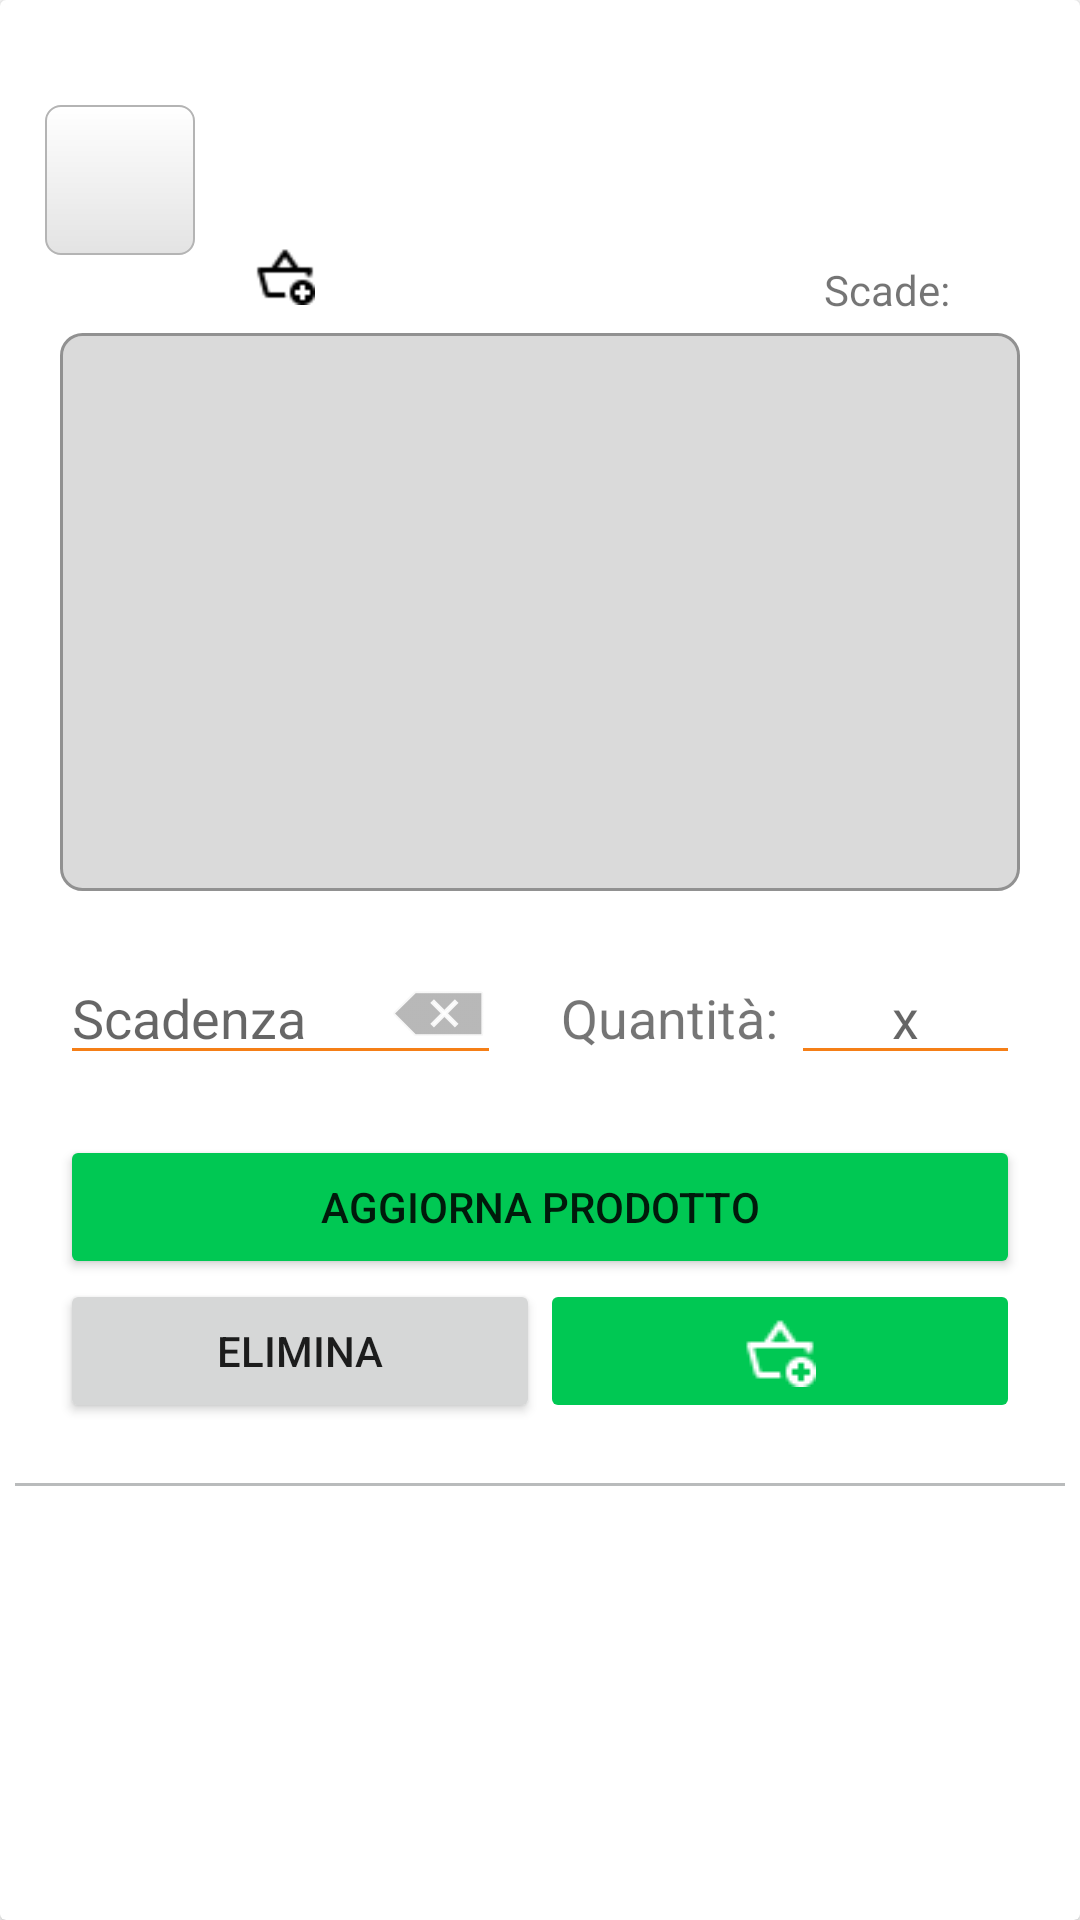

Where icons sit on this 1080w x 1920h app screen, as (x1, y1, x2, y2):
Cancella la data: (395, 993, 482, 1034)
